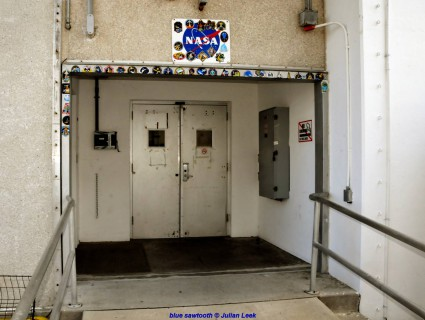NASA: (179, 21, 221, 59)
